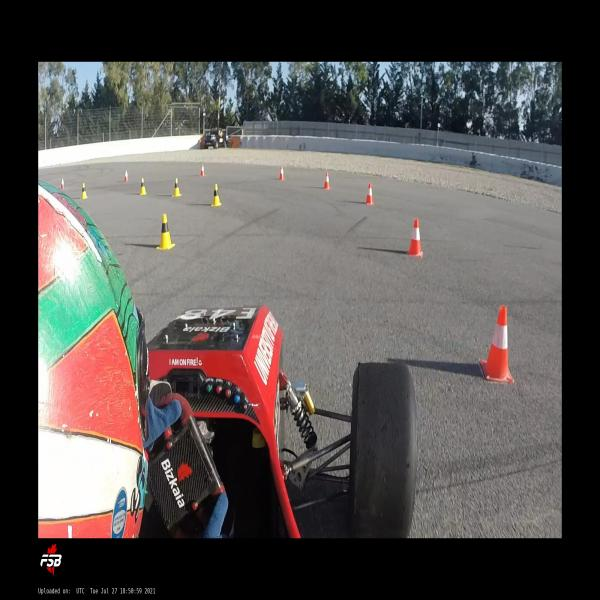orange_cone: (480, 307, 512, 383), (407, 219, 423, 258), (366, 183, 374, 205), (324, 172, 330, 189), (280, 166, 284, 179), (200, 163, 204, 176), (61, 177, 64, 189), (125, 170, 128, 181)
yellow_cone: (156, 214, 175, 250), (211, 184, 221, 206), (172, 178, 182, 197), (81, 183, 88, 200), (140, 178, 147, 195)
